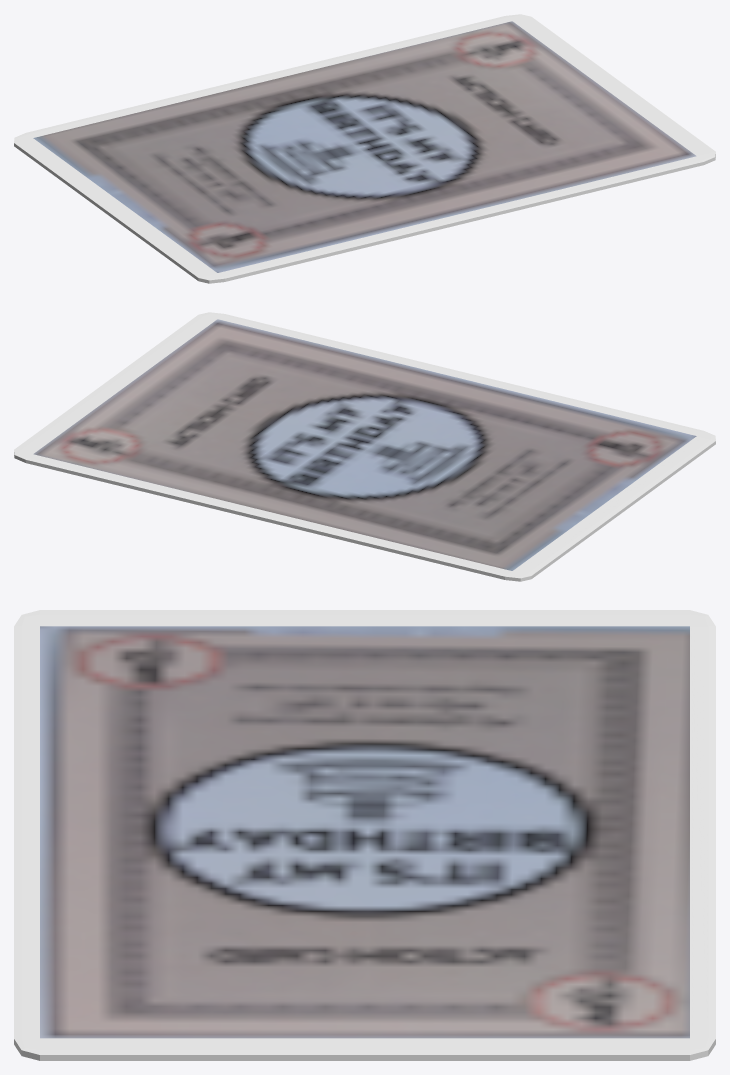
Rendered from birthday.glb.
3 renders of one model, top to bottom at view 1: azimuth 30°, elevation 25°; view 2: azimuth 150°, elevation 25°; view 3: azimuth 270°, elevation 25°, orthographic. The views are drawn at different scales.
Visible parts, largest first — view 1: Cube; view 2: Cube; view 3: Cube.
Boxes of the visible parts, left/top/right/bottom form: Cube: left=14, top=14, right=715, bottom=283; Cube: left=14, top=312, right=715, bottom=581; Cube: left=14, top=610, right=715, bottom=1060.
Size of the model in its own units: 0.6 by 0.004 by 0.4.
3 materials, 2 textured.
